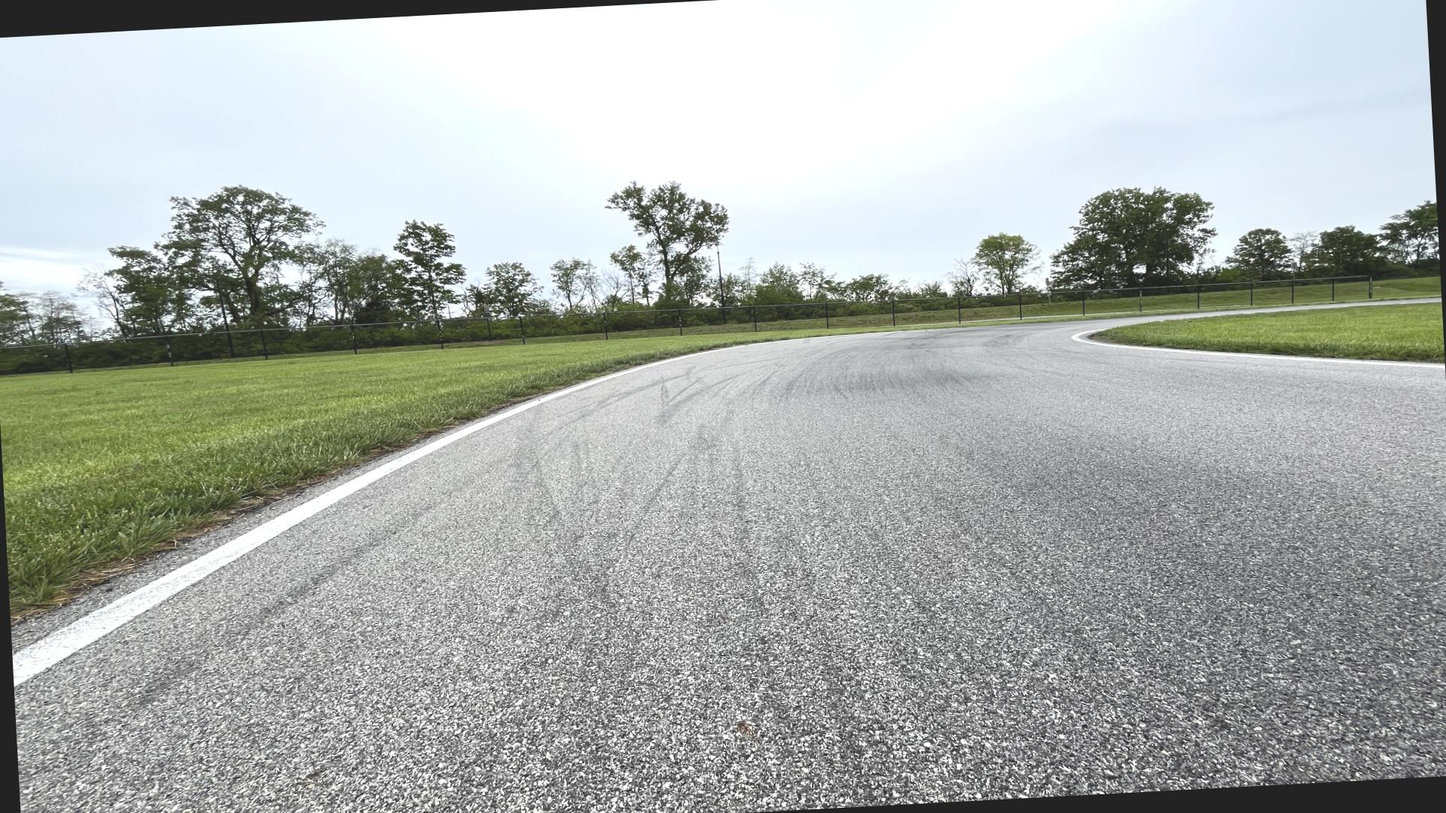white-line: (13, 397, 549, 687), (1211, 353, 1444, 369)
